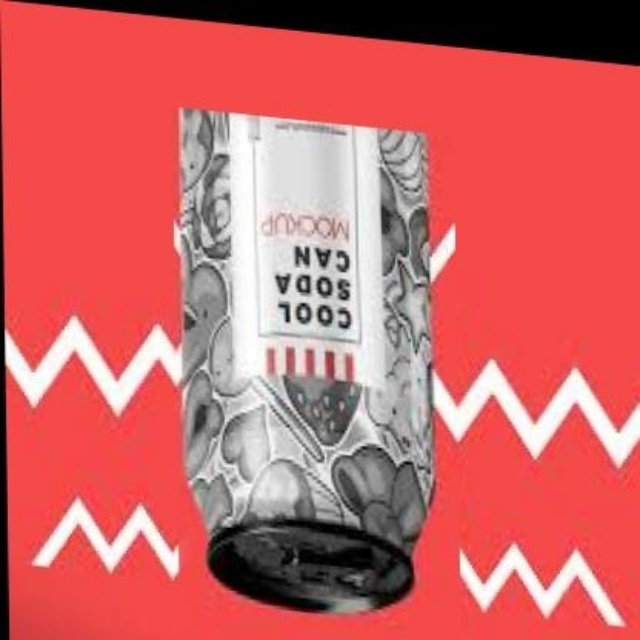trash: (178, 109, 432, 611)
